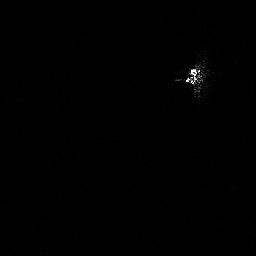ship: (174, 58, 212, 99)
